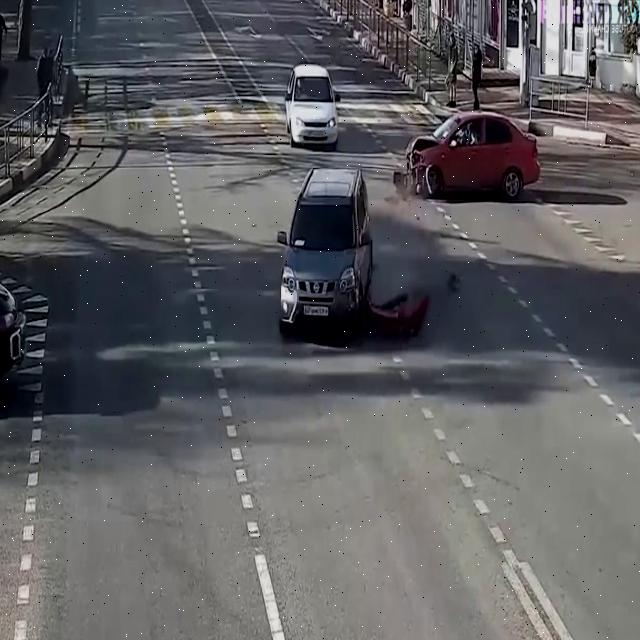accident: (272, 150, 437, 350), (389, 95, 547, 203)
